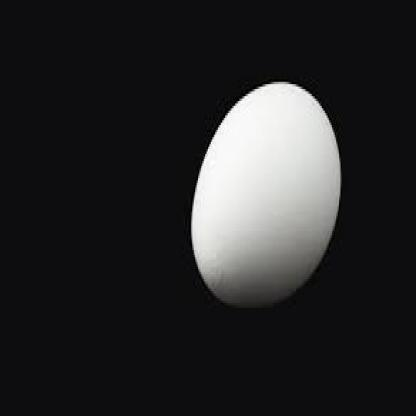egg: (190, 82, 341, 308)
